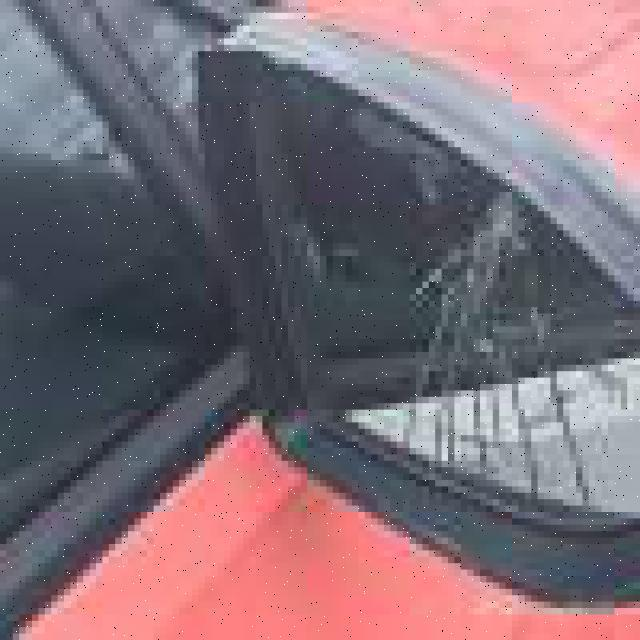Sidemirror-Damage: (179, 0, 634, 583)
